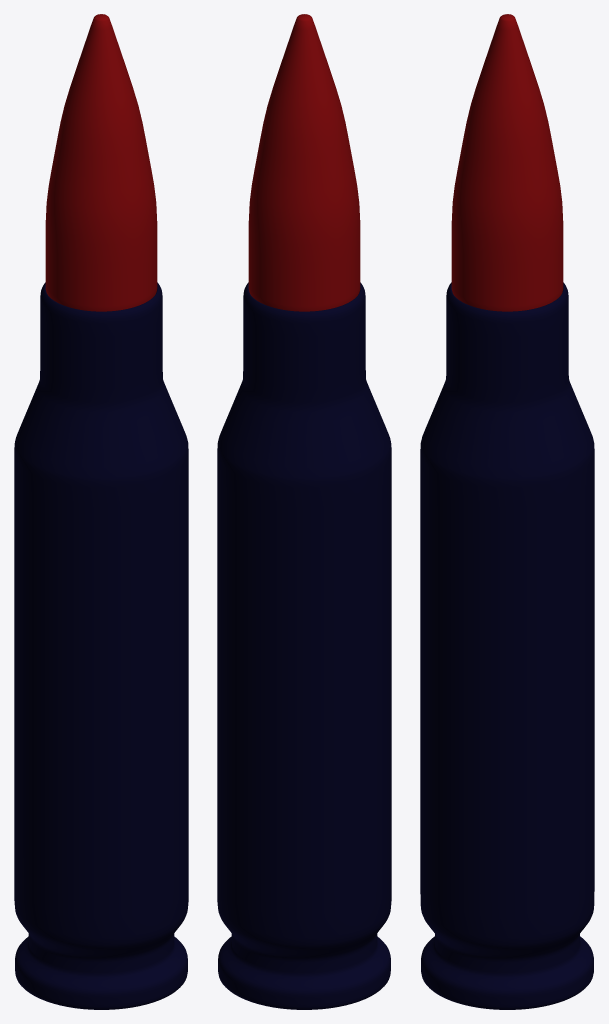
Rendered from uploads_files_3815315_7.62mm+Bullet.fbx.
3 renders of one model, left to right at view 1: azimuth 30°, elevation 25°; view 2: azimuth 150°, elevation 25°; view 3: azimuth 270°, elevation 25°, orthographic.
Visible parts, largest first — view 1: Bullet; view 2: Bullet; view 3: Bullet.
Part boxes in pixels (x1=…): Bullet: x1=14, y1=14, x2=188, y2=1009; Bullet: x1=217, y1=14, x2=391, y2=1009; Bullet: x1=420, y1=14, x2=594, y2=1009.
Size of the model in its own units: 17.41 by 106 by 17.41.
